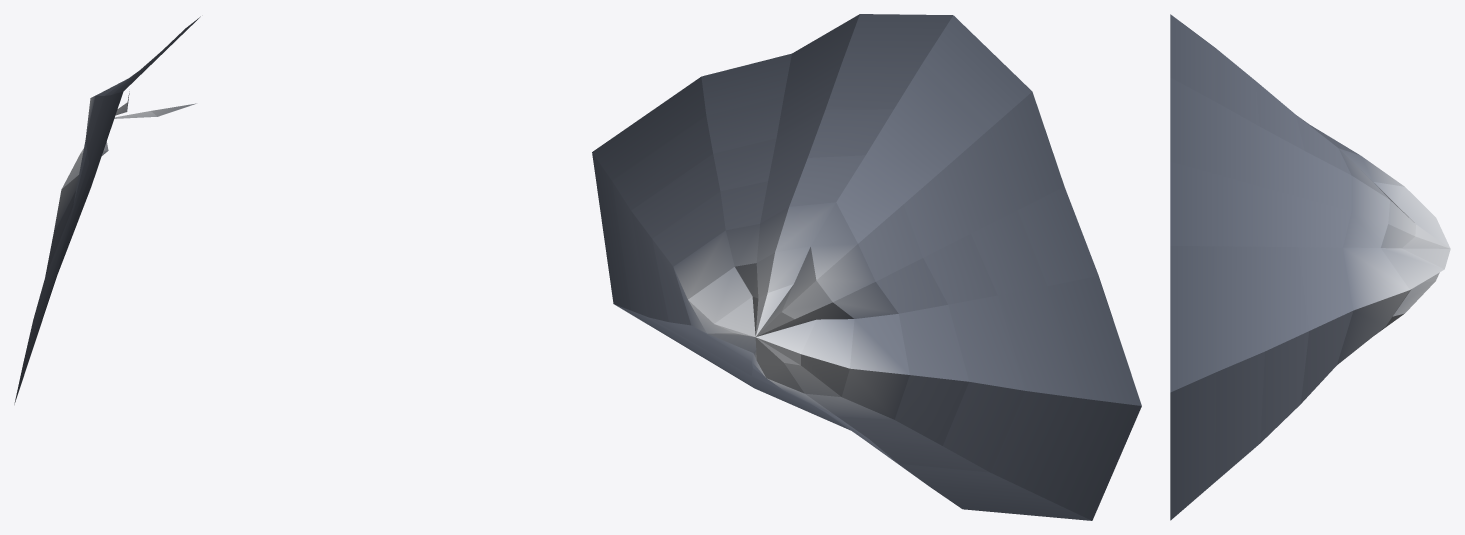
Rendered from mtn_peak_b.glb.
3 views of the same model, side by side, from view 1: azimuth 30°, elevation 25°; view 2: azimuth 150°, elevation 25°; view 3: azimuth 270°, elevation 25° (orthographic). The views are drawn at different scales.
Parts seen in each view (by area): view 1: mtn_peak_b; view 2: mtn_peak_b; view 3: mtn_peak_b.
Boxes of the visible parts, x1,y1,x2,y2 form: mtn_peak_b: [14, 16, 200, 404]; mtn_peak_b: [592, 14, 1141, 520]; mtn_peak_b: [1170, 14, 1450, 520].
Bounding box in the file's own units: 2.73 × 2.34 × 1.28.
